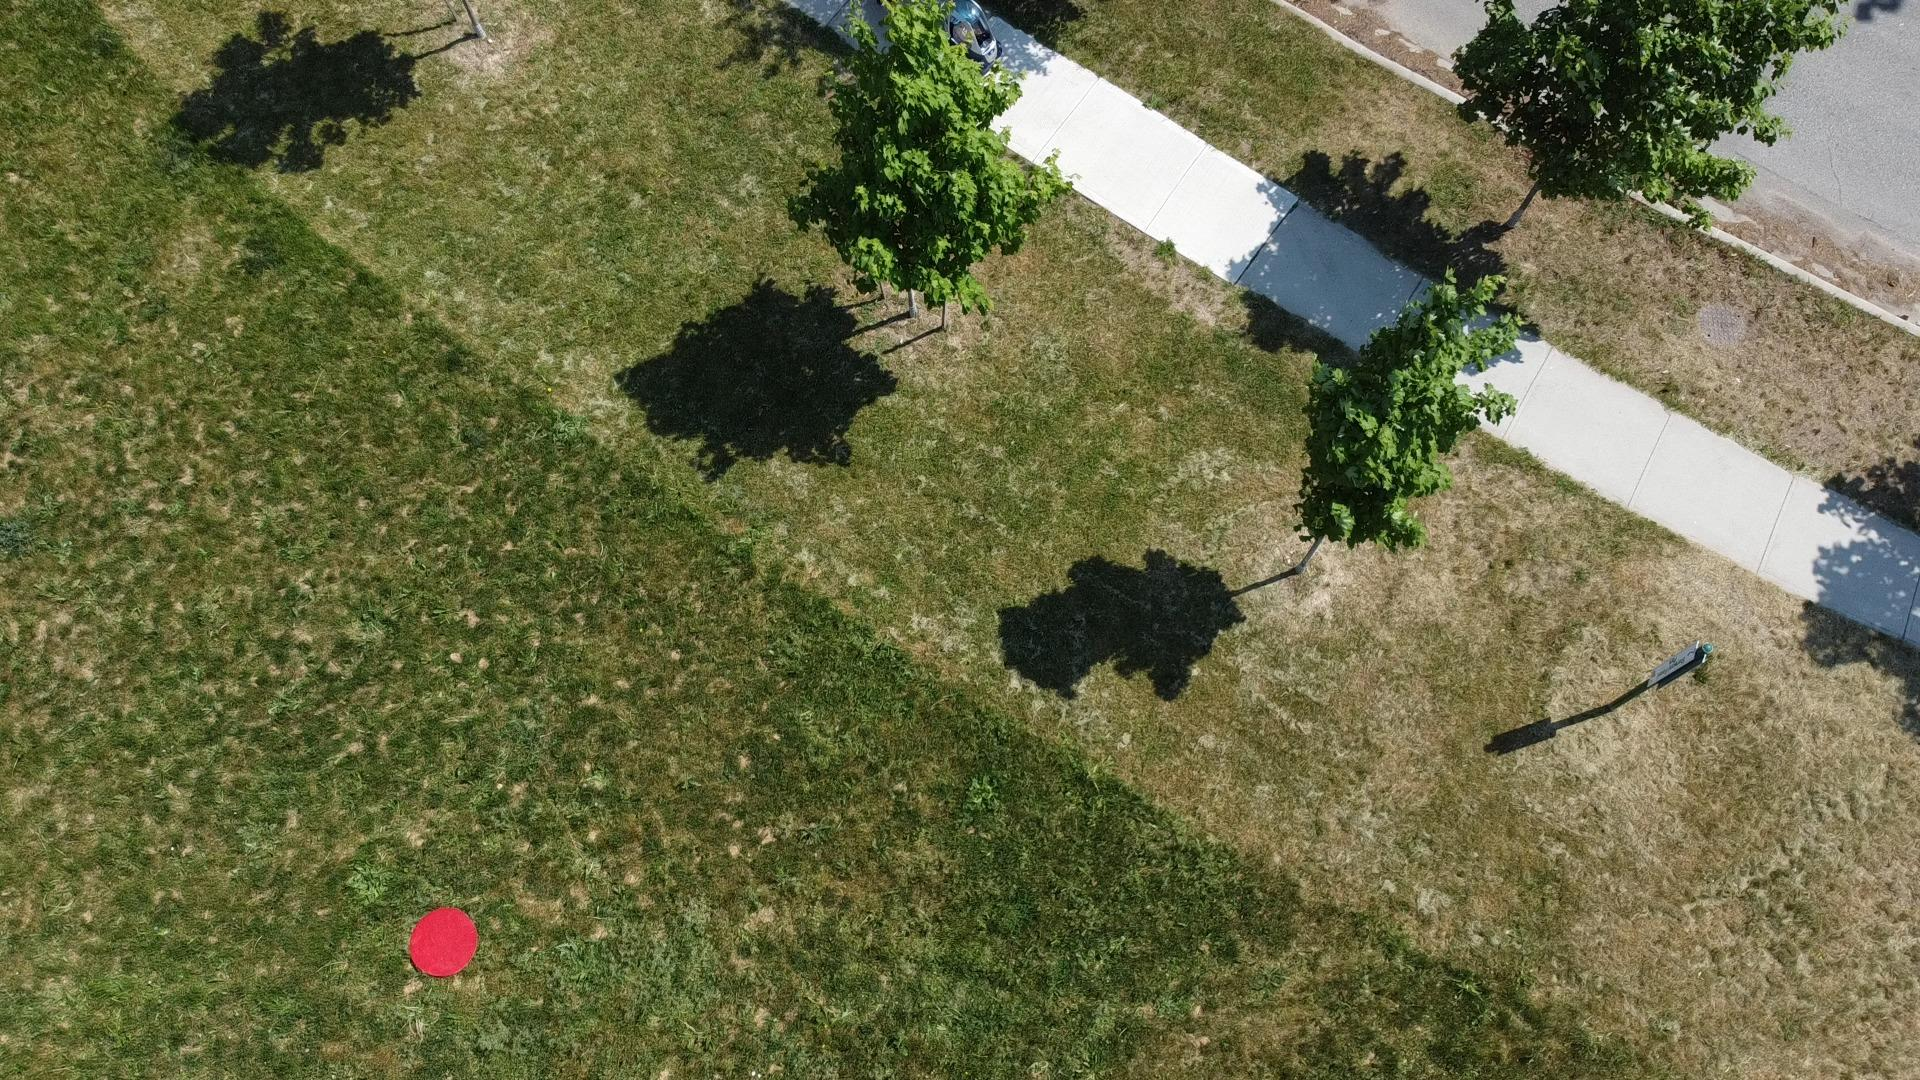Red: (407, 903, 481, 980)
